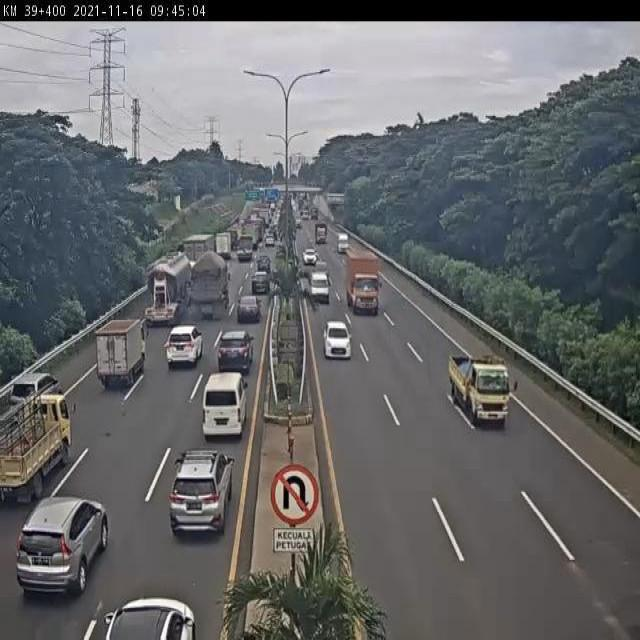car: (17, 498, 106, 598), (169, 452, 231, 537), (216, 332, 251, 377), (164, 325, 199, 363), (324, 323, 352, 361), (309, 268, 330, 301), (237, 297, 259, 327), (252, 273, 271, 295), (255, 255, 272, 279)
truck: (0, 392, 70, 503), (447, 349, 509, 432), (143, 251, 194, 327), (96, 316, 146, 389), (202, 374, 247, 438), (187, 256, 227, 325), (345, 251, 382, 316), (180, 236, 217, 292)
